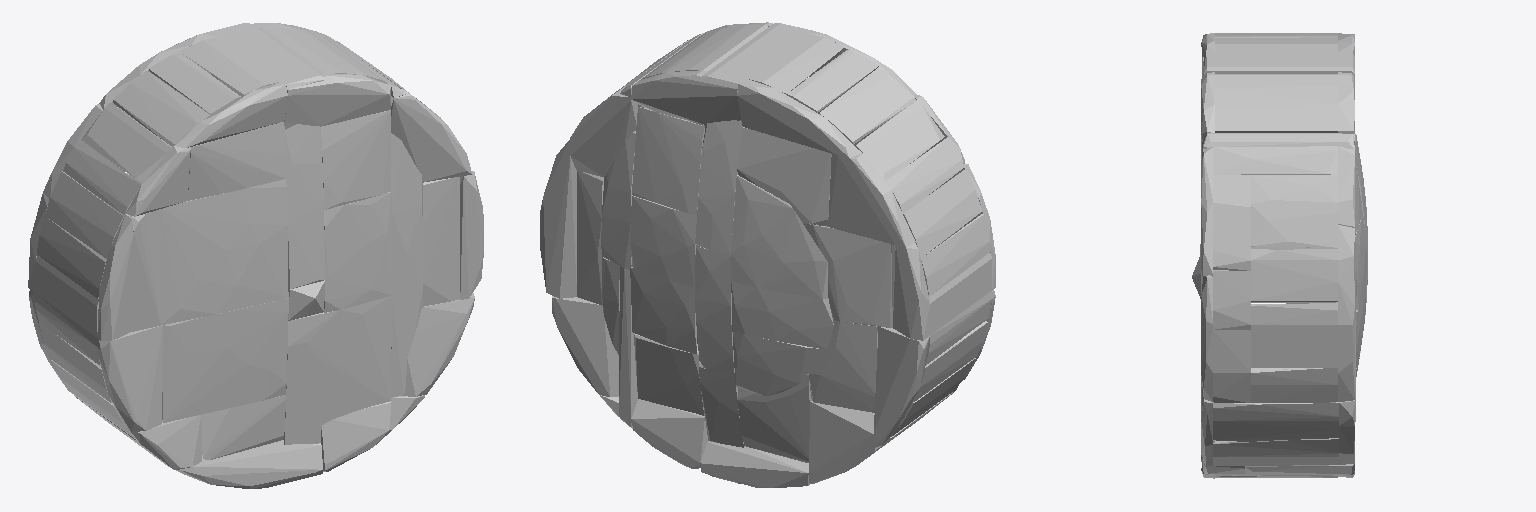
File: ceiling_lamp_15650_object1_vhacd.obj
3 renders of one model, left to right at view 1: azimuth 30°, elevation 25°; view 2: azimuth 150°, elevation 25°; view 3: azimuth 270°, elevation 25°, orthographic.
Visible parts, largest first — view 1: convex_29, convex_26, convex_58, convex_49, convex_14, convex_85, convex_25, convex_78, convex_24, convex_34, convex_20, convex_7 (+28 smaller); view 2: convex_2, convex_65, convex_83, convex_46, convex_50, convex_1, convex_52, convex_36, convex_11, convex_39, convex_40, convex_55 (+28 smaller); view 3: convex_10, convex_27, convex_56, convex_79, convex_41, convex_66, convex_48, convex_6, convex_47, convex_11, convex_33, convex_30 (+13 smaller).
Boxes of the visible parts, x1,y1,x2,y2 form: convex_29: [161, 179, 288, 324]; convex_26: [162, 298, 288, 422]; convex_58: [283, 296, 391, 444]; convex_49: [324, 192, 391, 312]; convex_14: [391, 133, 422, 397]; convex_85: [285, 124, 324, 288]; convex_25: [321, 110, 390, 209]; convex_78: [188, 122, 285, 200]; convex_24: [97, 325, 162, 431]; convex_34: [423, 177, 459, 306]; convex_20: [177, 440, 322, 488]; convex_7: [284, 73, 390, 126]; convex_2: [731, 175, 828, 298]; convex_65: [805, 224, 892, 327]; convex_83: [632, 107, 704, 215]; convex_46: [737, 127, 831, 225]; convex_50: [828, 153, 915, 247]; convex_1: [731, 281, 833, 349]; convex_52: [809, 320, 877, 412]; convex_36: [695, 120, 742, 255]; convex_11: [540, 140, 576, 298]; convex_39: [630, 195, 696, 286]; convex_40: [737, 79, 861, 157]; convex_55: [737, 374, 811, 462]; convex_10: [1215, 74, 1337, 132]; convex_27: [1251, 175, 1337, 247]; convex_56: [1251, 302, 1337, 367]; convex_79: [1213, 402, 1338, 441]; convex_41: [1251, 249, 1337, 301]; convex_66: [1213, 175, 1250, 270]; convex_48: [1213, 146, 1337, 174]; convex_6: [1204, 52, 1354, 74]; convex_47: [1213, 438, 1338, 465]; convex_11: [1338, 225, 1354, 401]; convex_33: [1251, 368, 1337, 402]; convex_30: [1213, 330, 1250, 402].
Size of the model in its own units: 0.5009 by 0.5009 by 0.2004.